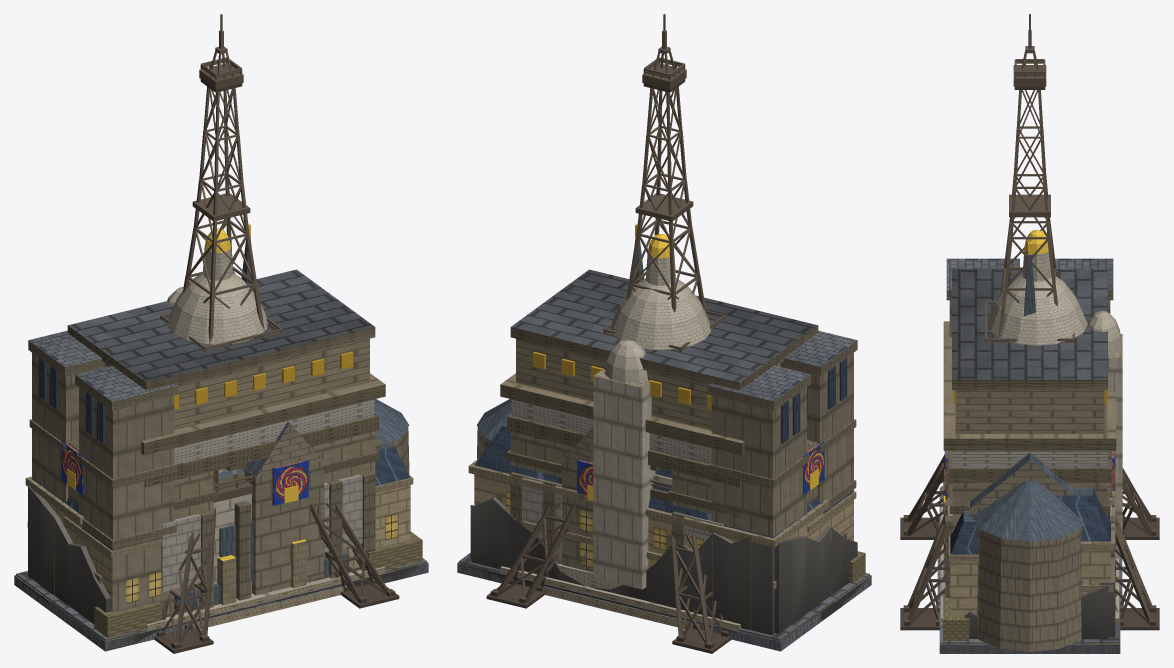
File: paris_landmarks.glb
The picture shows the model from 3 angles, left to right: view 1: azimuth 30°, elevation 25°; view 2: azimuth 150°, elevation 25°; view 3: azimuth 270°, elevation 25°; orthographic projection.
Visible parts, largest first — view 1: NOTRE_DAME, ARC_DE_TRIOMPHE, EIFFEL_TOWER, ELYSEE, SACRE_COEUR, ELYSEE_RUINED, LOUVRE_PYRAMID; view 2: ARC_DE_TRIOMPHE, NOTRE_DAME, SACRE_COEUR, ELYSEE_RUINED, EIFFEL_TOWER, ELYSEE, LOUVRE_PYRAMID; view 3: ARC_DE_TRIOMPHE, NOTRE_DAME, EIFFEL_TOWER, ELYSEE, SACRE_COEUR, ELYSEE_RUINED.
Boxes of the visible parts, x1=… form: NOTRE_DAME: x1=16, y1=224, x2=426, y2=641; ARC_DE_TRIOMPHE: x1=67, y1=269, x2=385, y2=617; EIFFEL_TOWER: x1=154, y1=14, x2=399, y2=653; ELYSEE: x1=14, y1=442, x2=428, y2=651; SACRE_COEUR: x1=146, y1=228, x2=385, y2=630; ELYSEE_RUINED: x1=14, y1=485, x2=428, y2=651; LOUVRE_PYRAMID: x1=186, y1=585, x2=347, y2=629; ARC_DE_TRIOMPHE: x1=500, y1=269, x2=818, y2=589; NOTRE_DAME: x1=459, y1=224, x2=869, y2=641; SACRE_COEUR: x1=500, y1=234, x2=740, y2=630; ELYSEE_RUINED: x1=457, y1=497, x2=871, y2=650; EIFFEL_TOWER: x1=486, y1=14, x2=731, y2=653; ELYSEE: x1=457, y1=422, x2=871, y2=651; LOUVRE_PYRAMID: x1=538, y1=585, x2=699, y2=629; ARC_DE_TRIOMPHE: x1=943, y1=268, x2=1116, y2=532; NOTRE_DAME: x1=940, y1=242, x2=1119, y2=652; EIFFEL_TOWER: x1=900, y1=14, x2=1159, y2=630; ELYSEE: x1=939, y1=481, x2=1120, y2=653; SACRE_COEUR: x1=940, y1=230, x2=1122, y2=621; ELYSEE_RUINED: x1=939, y1=488, x2=1120, y2=653.
Size of the model in its own units: 8.27 by 13.18 by 5.44.
8 materials, 6 textured.
